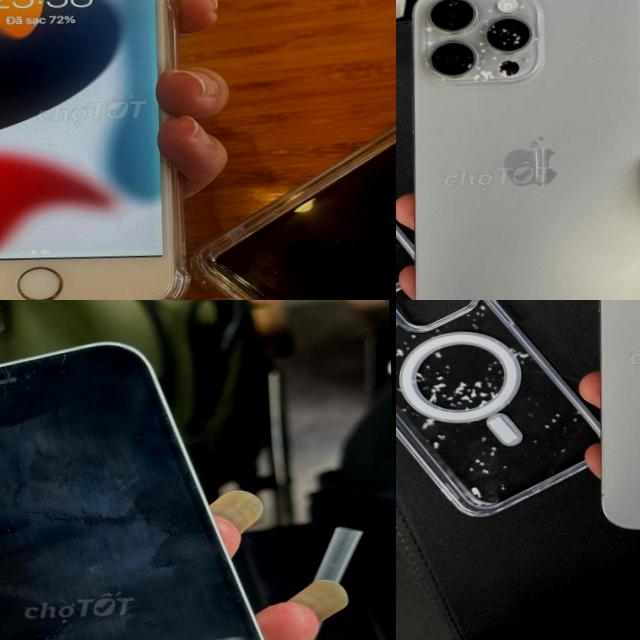gen_12_13: (0, 328, 323, 640)
gen_15: (401, 0, 640, 300)
gen_6: (0, 0, 184, 300)
